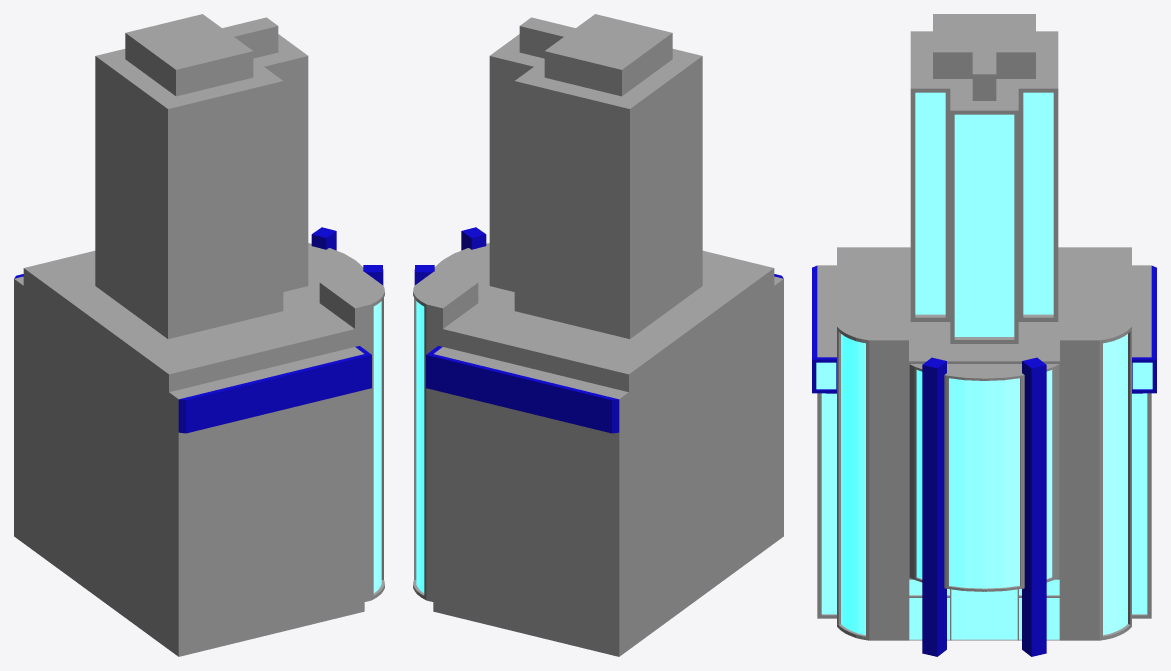
Rendered from mairie 1.fbx.
3 renders of one model, left to right at view 1: azimuth 30°, elevation 25°; view 2: azimuth 150°, elevation 25°; view 3: azimuth 270°, elevation 25°, orthographic.
Visible parts, largest first — view 1: Cube; view 2: Cube; view 3: Cube.
Boxes of the visible parts, box(x1,y1,x2,y2) form: Cube: box(14, 14, 384, 656); Cube: box(413, 14, 783, 656); Cube: box(812, 14, 1156, 656).
Bounding box in the file's own units: 18862 × 36421 × 21103.
